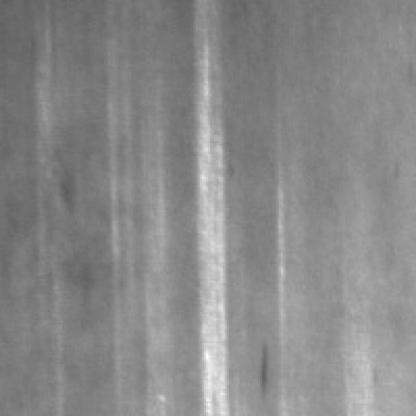scratches: (195, 37, 244, 412)
